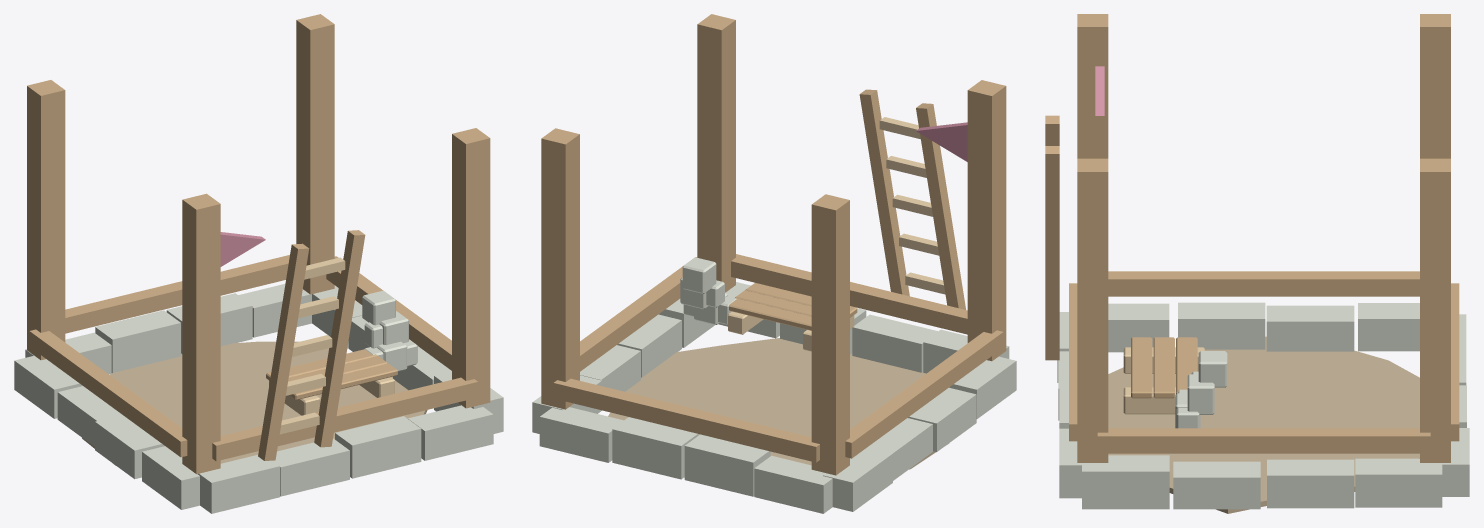
The model's file is world_construction_site_1.fbx.
The picture shows the model from 3 angles, left to right: view 1: azimuth 30°, elevation 25°; view 2: azimuth 150°, elevation 25°; view 3: azimuth 270°, elevation 25°; orthographic projection. The views are drawn at different scales.
Parts seen in each view (by area): view 1: world_construction_site_1_mesh; view 2: world_construction_site_1_mesh; view 3: world_construction_site_1_mesh.
Boxes of the visible parts, x1,y1,x2,y2 form: world_construction_site_1_mesh: (14,14,503,513); world_construction_site_1_mesh: (532,14,1016,513); world_construction_site_1_mesh: (1045,14,1469,513).
Bounding box in the file's own units: 1.74 × 1.55 × 1.78.
